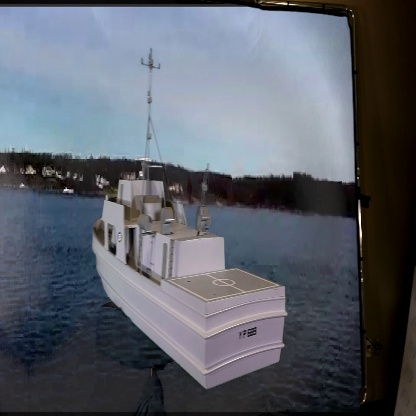YP689: (90, 49, 288, 390)
